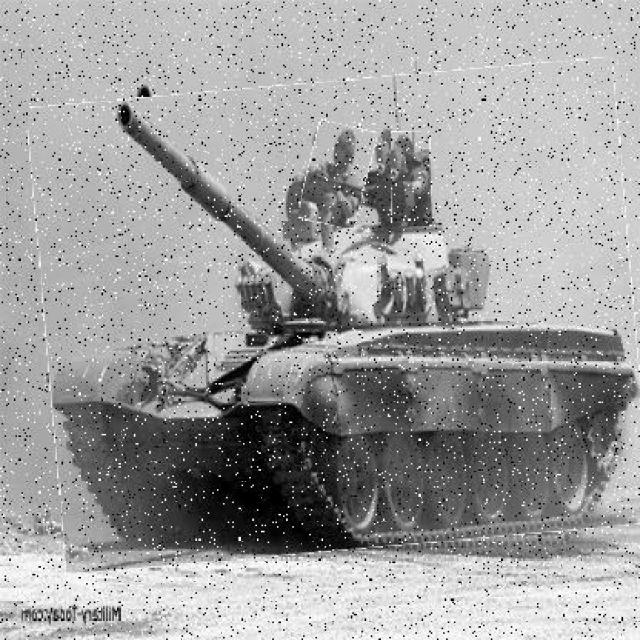Person: (304, 123, 373, 229), (391, 132, 434, 229)
Tank: (37, 69, 640, 566)
